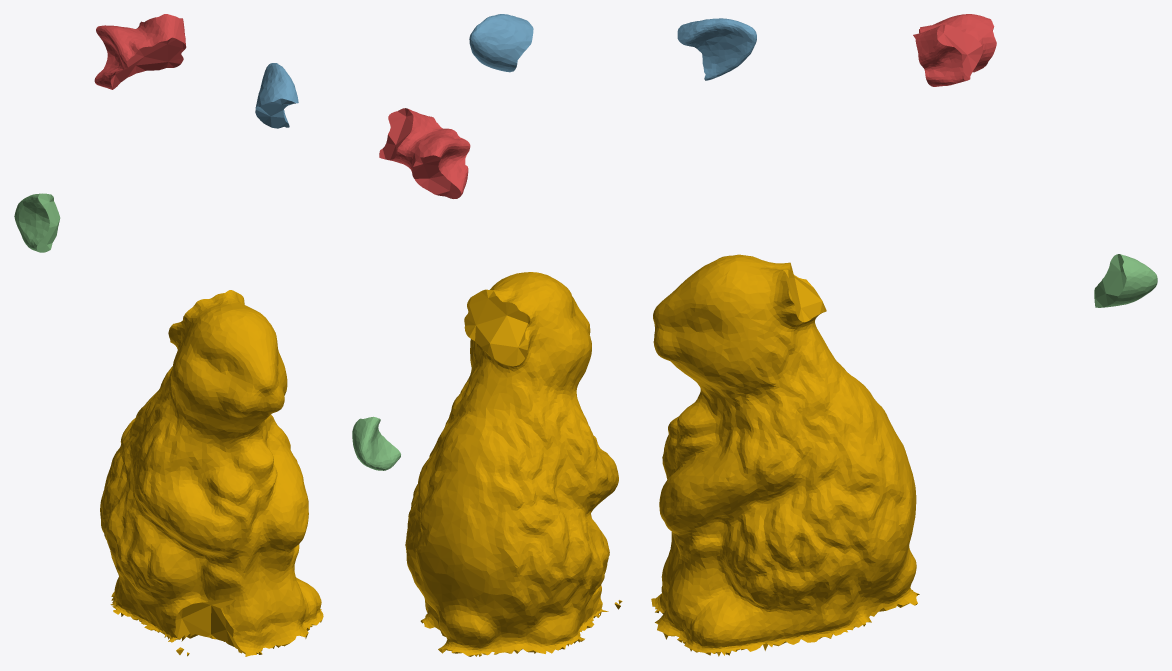
The model's file is fractured_76_4pcs_transformed.glb.
The picture shows the model from 3 angles, left to right: view 1: azimuth 30°, elevation 25°; view 2: azimuth 150°, elevation 25°; view 3: azimuth 270°, elevation 25°; orthographic projection. The views are drawn at different scales.
Visible parts, largest first — view 1: piece_0.obj, piece_1.obj, piece_3.obj, piece_2.obj; view 2: piece_0.obj, piece_1.obj, piece_2.obj, piece_3.obj; view 3: piece_0.obj, piece_1.obj, piece_2.obj, piece_3.obj.
Part boxes in pixels (x1,y1,x2,y2): piece_0.obj: [100, 290, 323, 656]; piece_1.obj: [94, 14, 186, 89]; piece_3.obj: [14, 193, 60, 252]; piece_2.obj: [255, 63, 298, 128]; piece_0.obj: [405, 272, 622, 656]; piece_1.obj: [379, 108, 470, 198]; piece_2.obj: [469, 14, 533, 72]; piece_3.obj: [352, 416, 400, 470]; piece_0.obj: [651, 254, 919, 656]; piece_1.obj: [913, 14, 996, 86]; piece_2.obj: [677, 18, 756, 80]; piece_3.obj: [1094, 254, 1157, 307].
Size of the model in its own units: 0.5195 by 1.6 by 1.17.
